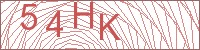4: (45, 9, 64, 39)
5: (19, 3, 38, 31)
H: (72, 1, 94, 30)
K: (97, 12, 123, 42)
